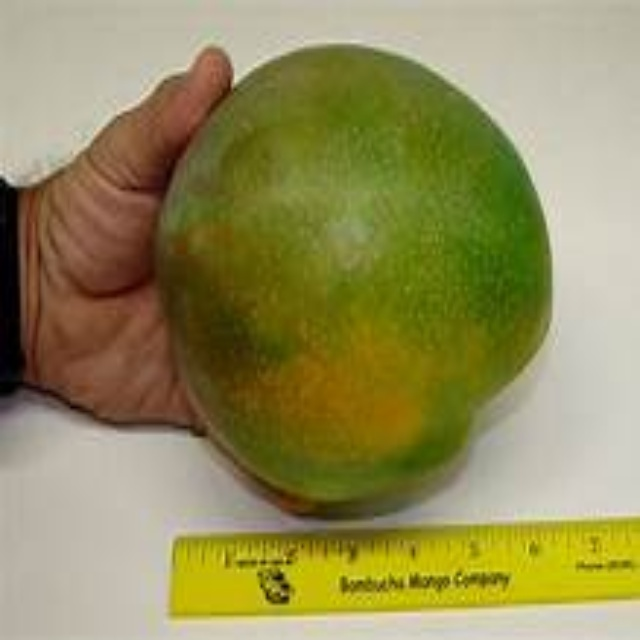mango: (162, 41, 559, 519)
